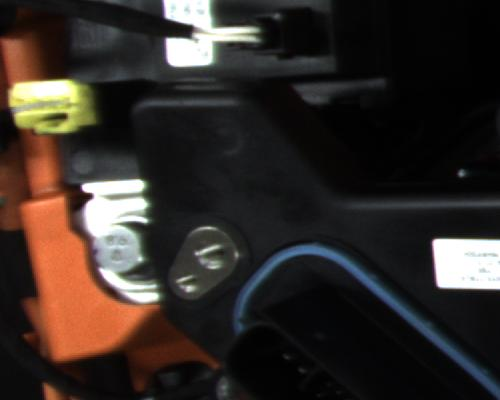nut_b: (87, 205, 154, 292)
